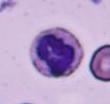N: (30, 27, 84, 77)
